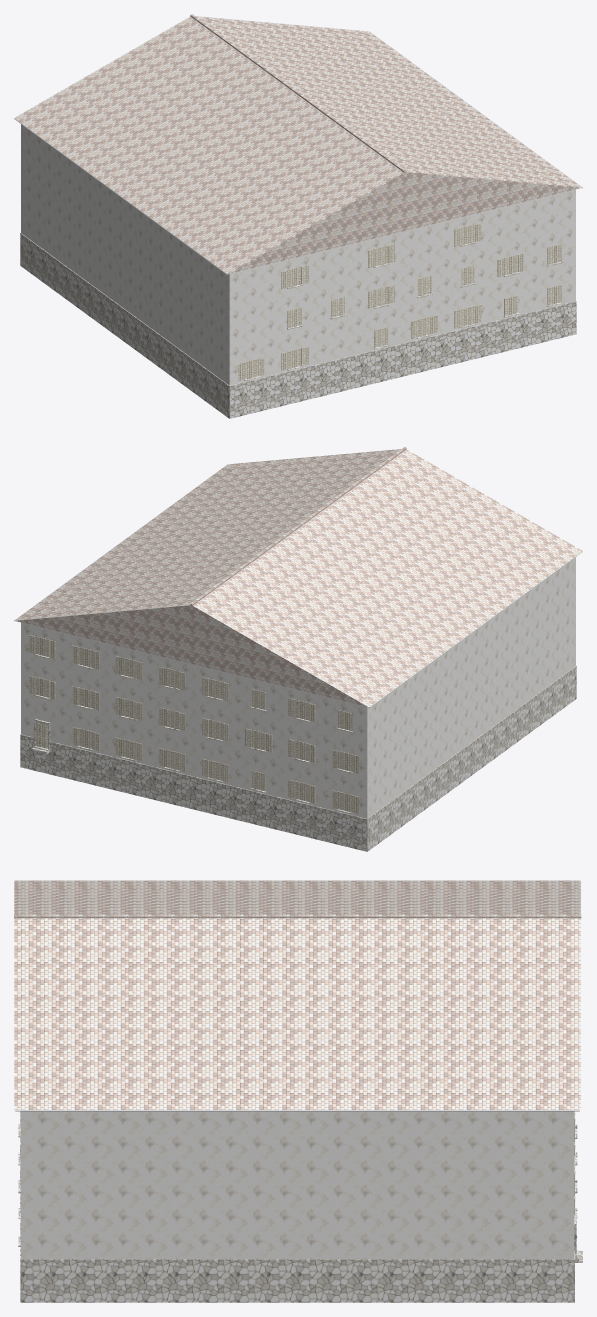
3 renders of one model, top to bottom at view 1: azimuth 30°, elevation 25°; view 2: azimuth 150°, elevation 25°; view 3: azimuth 270°, elevation 25°, orthographic. The views are drawn at different scales.
Visible parts, largest first — view 1: b1082825664; view 2: b1082825664; view 3: b1082825664.
Part boxes in pixels (left/top/right/bottom): b1082825664: left=14, top=14, right=582, bottom=418; b1082825664: left=14, top=447, right=582, bottom=851; b1082825664: left=14, top=880, right=582, bottom=1302.
Size of the model in its own units: 28.36 by 15.78 by 29.62.
Materials: 16 (16 with a texture image).
